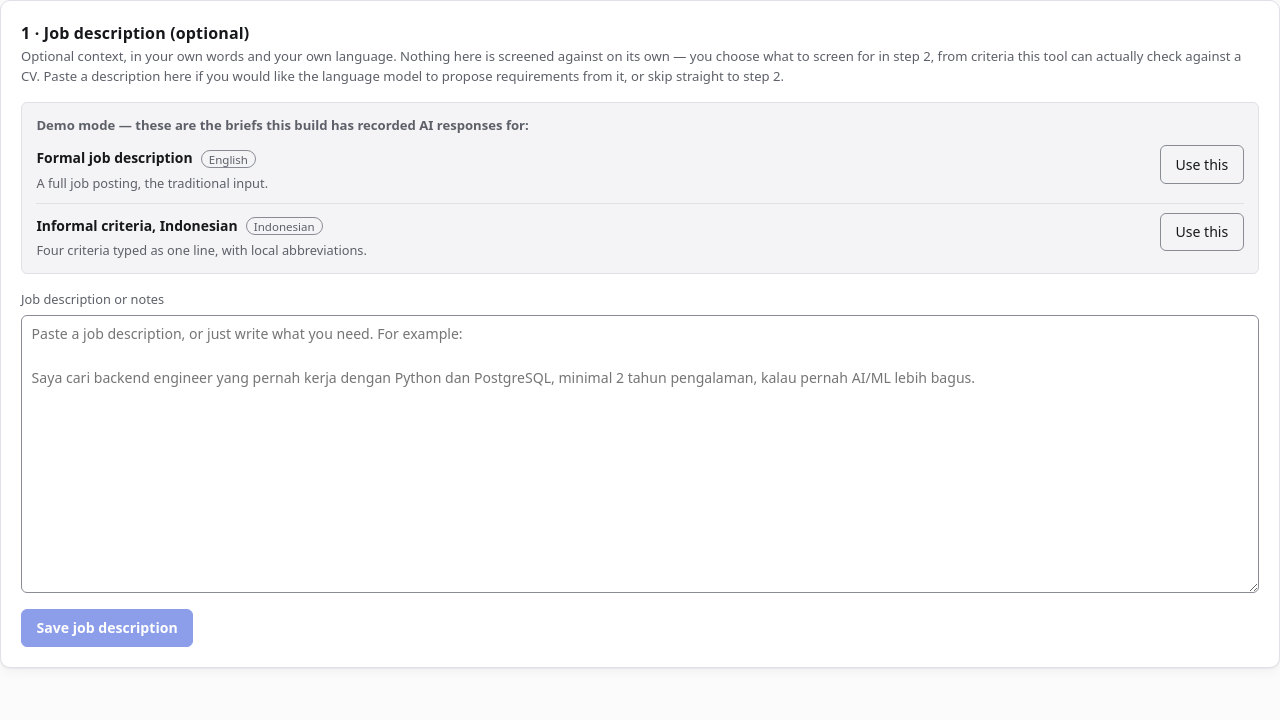
Test: what the box asks for › offers every brief the demo has recordings for, and fills the box from one
Check: the text "Formal job description" is shown, box x1=36 y1=148 x2=193 y2=167
Check: the text "Informal criteria, Indonesian" is shown, box x1=36 y1=216 x2=238 y2=235
Click the button "Use this" in the row of "Informal criteria, Indonesian".
click(1202, 232)  # box x1=1160 y1=213 x2=1244 y2=251
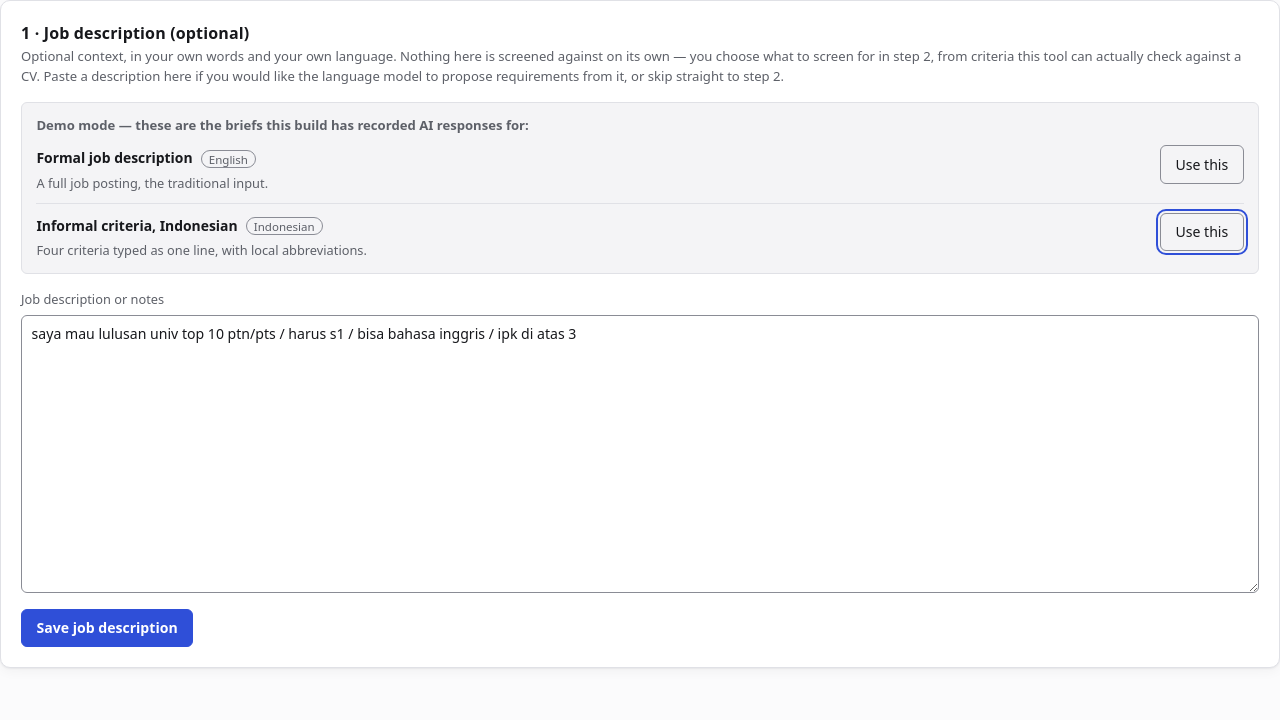
Check: the text box labelled "Job description or notes" holds "saya mau lulusan univ top 10 ptn/pts / harus s1 / bisa bahasa inggris / ipk di atas 3", box x1=21 y1=315 x2=1259 y2=593
